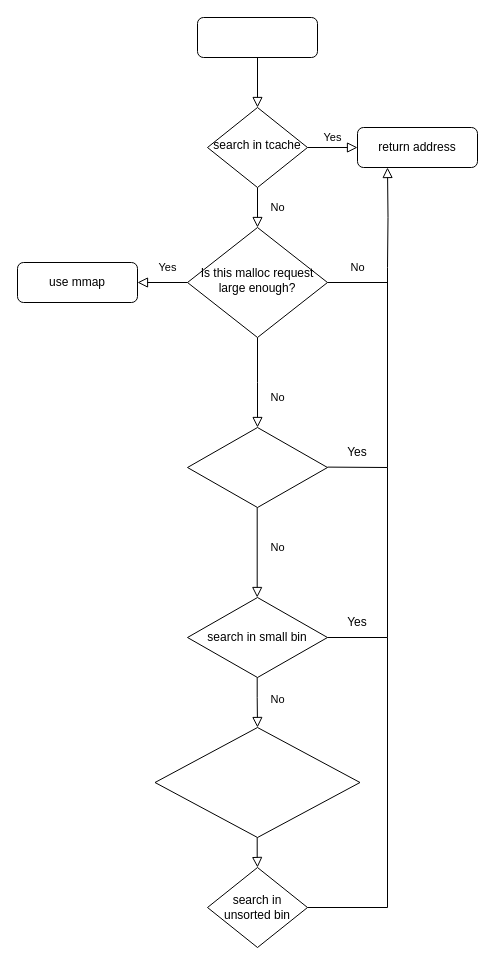
Image size: 495x965. Some labels were removed from this diagram. Each missing label, with the centre of its shape:
"Clear entries in fast-bins, move chunks to the unsorted-bin" belongs at pixel 257 782.
"Malloc" belongs at pixel 257 37.
"search in fastbin" belongs at pixel 257 467.
